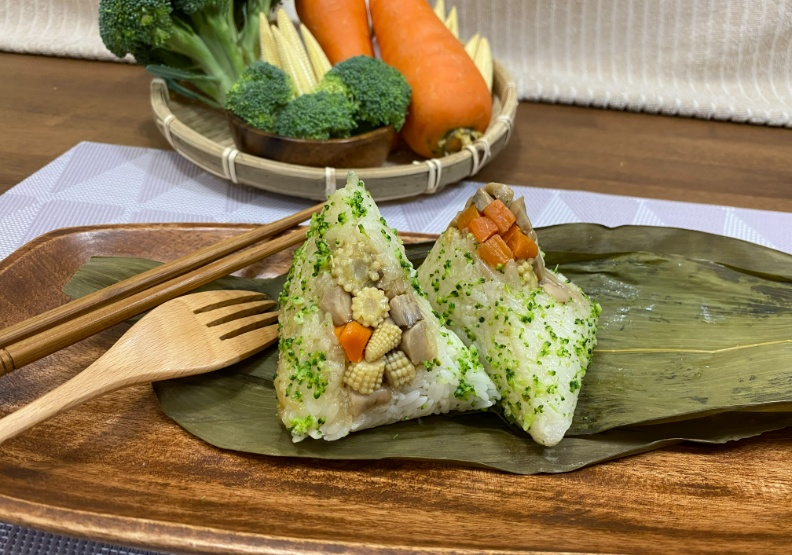zongzi: (275, 172, 600, 445)
